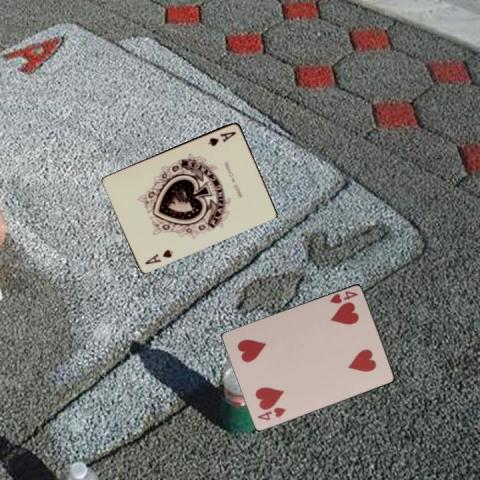4h: (254, 405, 287, 422), (327, 288, 359, 305)
As: (142, 246, 175, 265), (206, 128, 238, 147)
